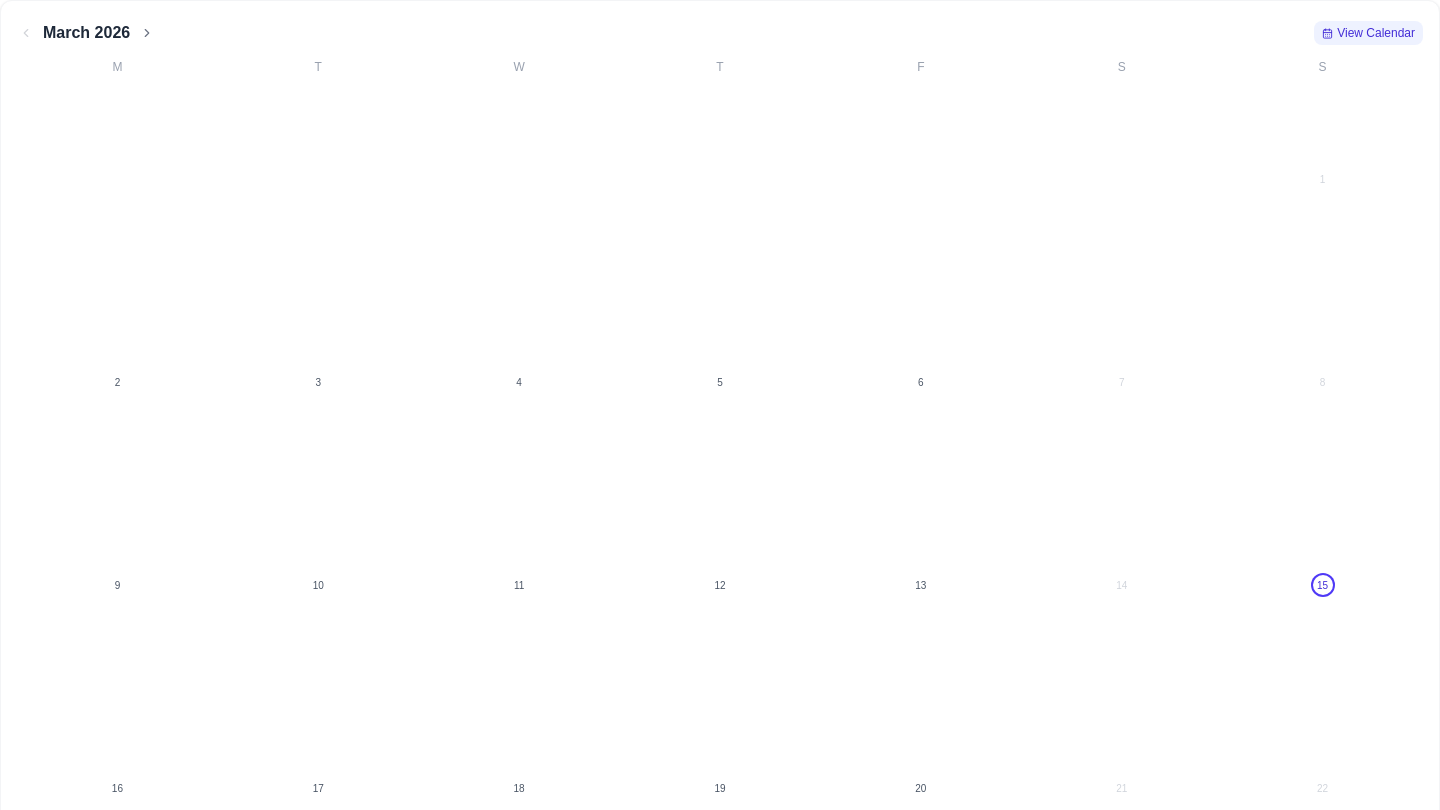
Test case: MiniCalendar — month navigation › navigates to the next month when Next month is clicked
Click the button named "Next month".
click(147, 33)  # box [138,24,156,42]
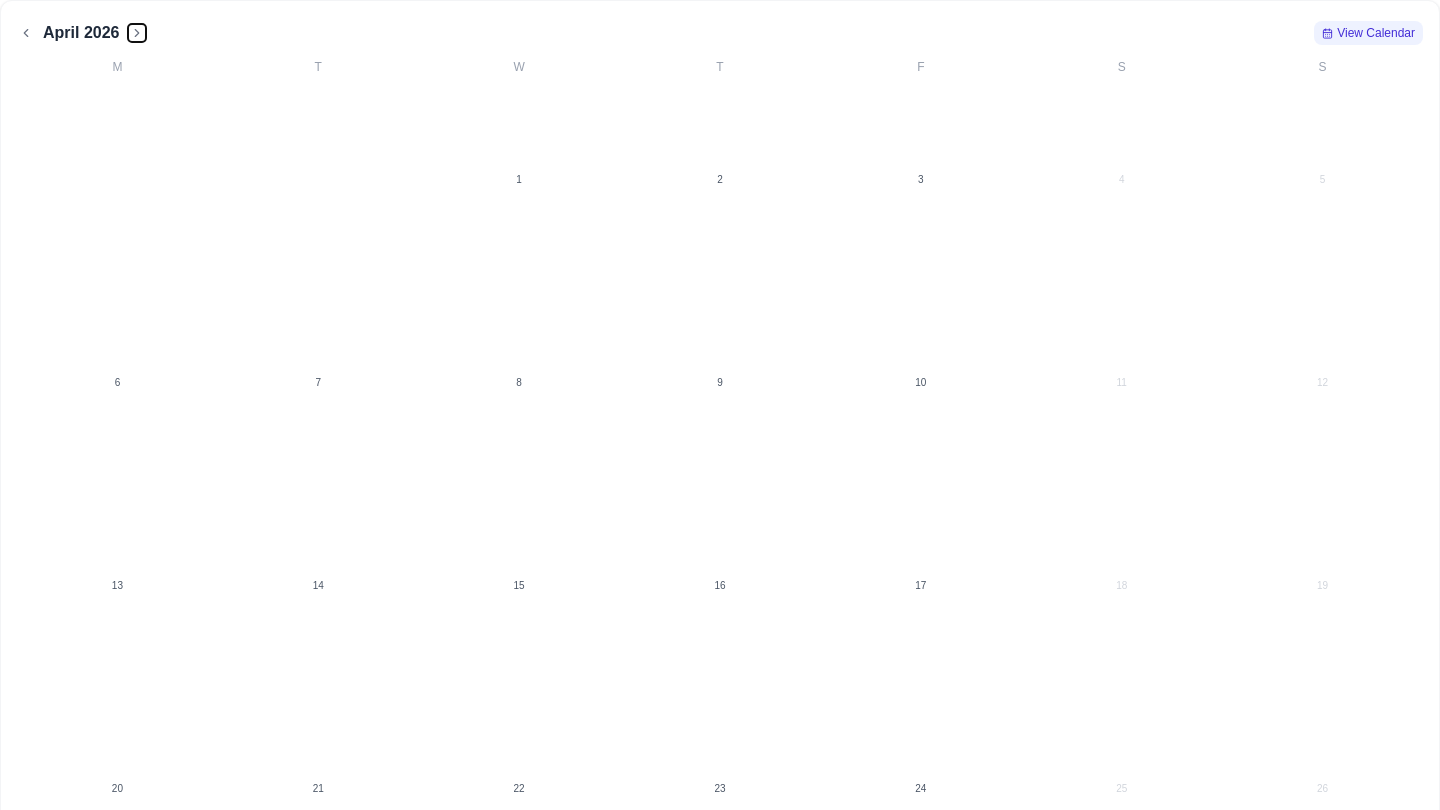
Expected: the button "April 2026" is shown, [35,17,128,49]
